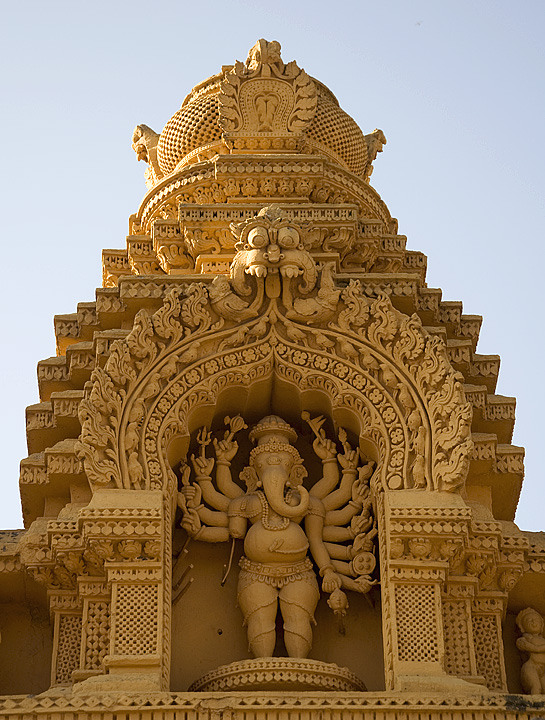Temple: (32, 55, 526, 682)
